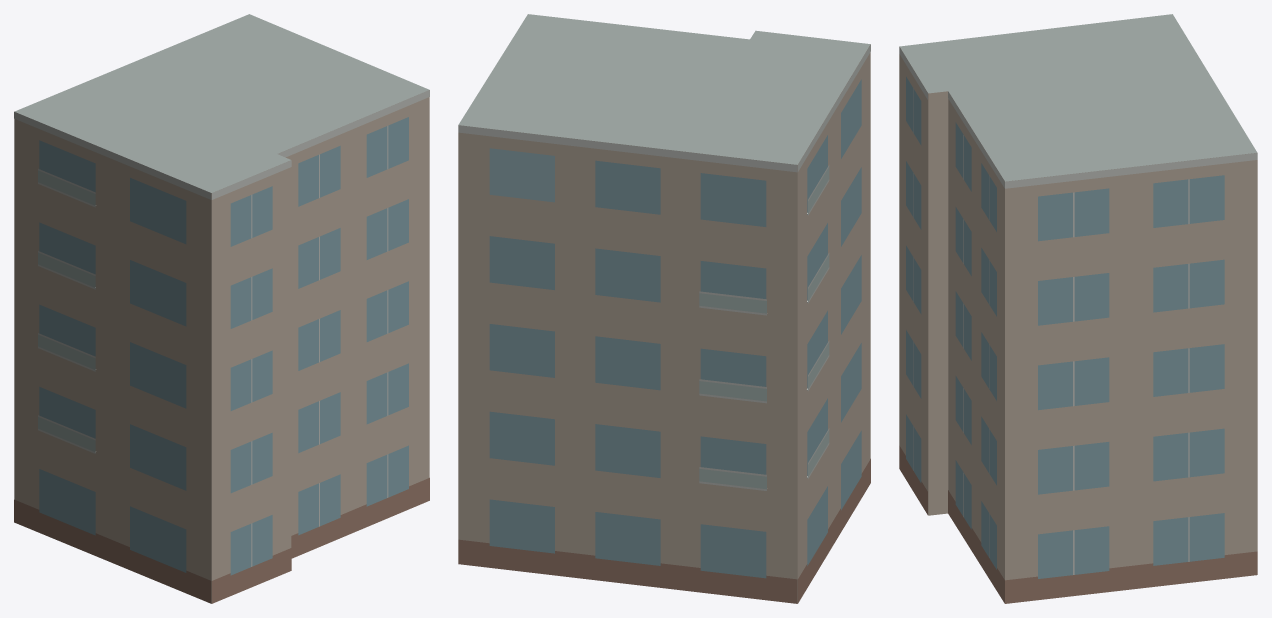
File: survey-upis-32655029.glb
The picture shows the model from 3 angles, left to right: view 1: azimuth 30°, elevation 25°; view 2: azimuth 150°, elevation 25°; view 3: azimuth 270°, elevation 25°; orthographic projection. The views are drawn at different scales.
Parts seen in each view (by area): view 1: survey-upis-32655029.tmp; view 2: survey-upis-32655029.tmp; view 3: survey-upis-32655029.tmp.
Part boxes in pixels (x1=…): survey-upis-32655029.tmp: x1=14, y1=14, x2=429, y2=603; survey-upis-32655029.tmp: x1=458, y1=14, x2=870, y2=603; survey-upis-32655029.tmp: x1=899, y1=14, x2=1257, y2=603.
Size of the model in its own units: 12.18 by 14.3 by 11.
